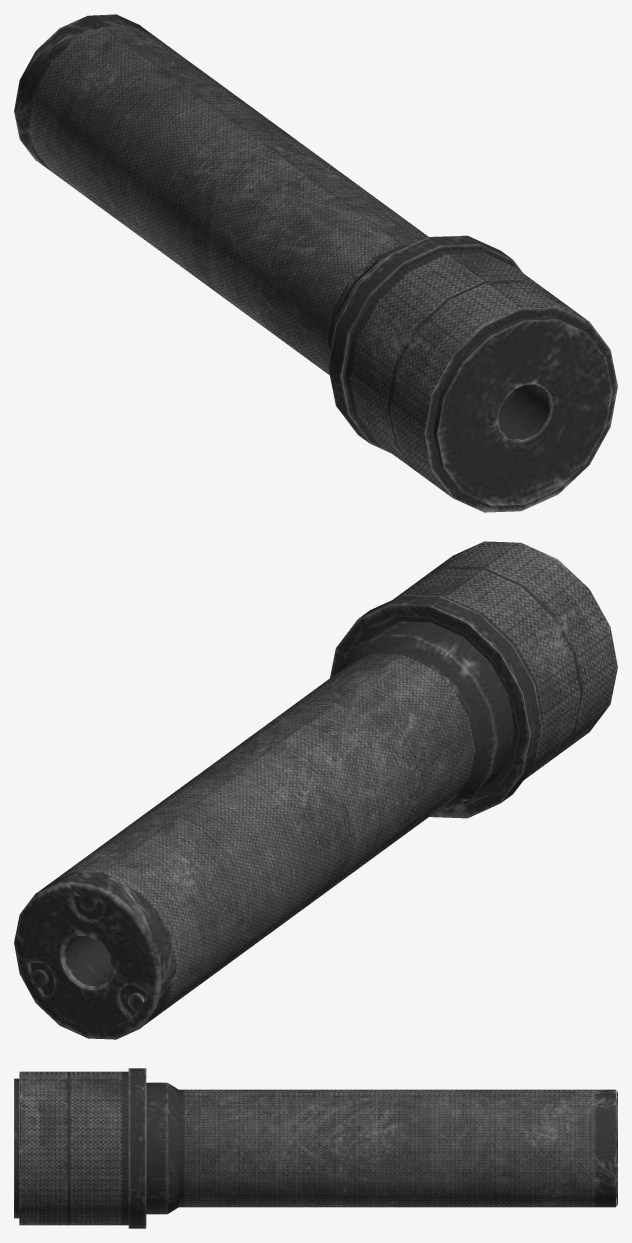
Rendered from suppressor.glb.
3 views of the same model, one above another, from view 1: azimuth 30°, elevation 25°; view 2: azimuth 150°, elevation 25°; view 3: azimuth 270°, elevation 25° (orthographic). The views are drawn at different scales.
Parts seen in each view (by area): view 1: Suppressor; view 2: Suppressor; view 3: Suppressor.
Boxes of the visible parts, x1,y1,x2,y2 form: Suppressor: (14,14,617,512); Suppressor: (14,541,617,1039); Suppressor: (14,1068,617,1228).
Bounding box in the file's own units: 0.266 × 0.266 × 1.
Materials: 1 (1 with a texture image).
